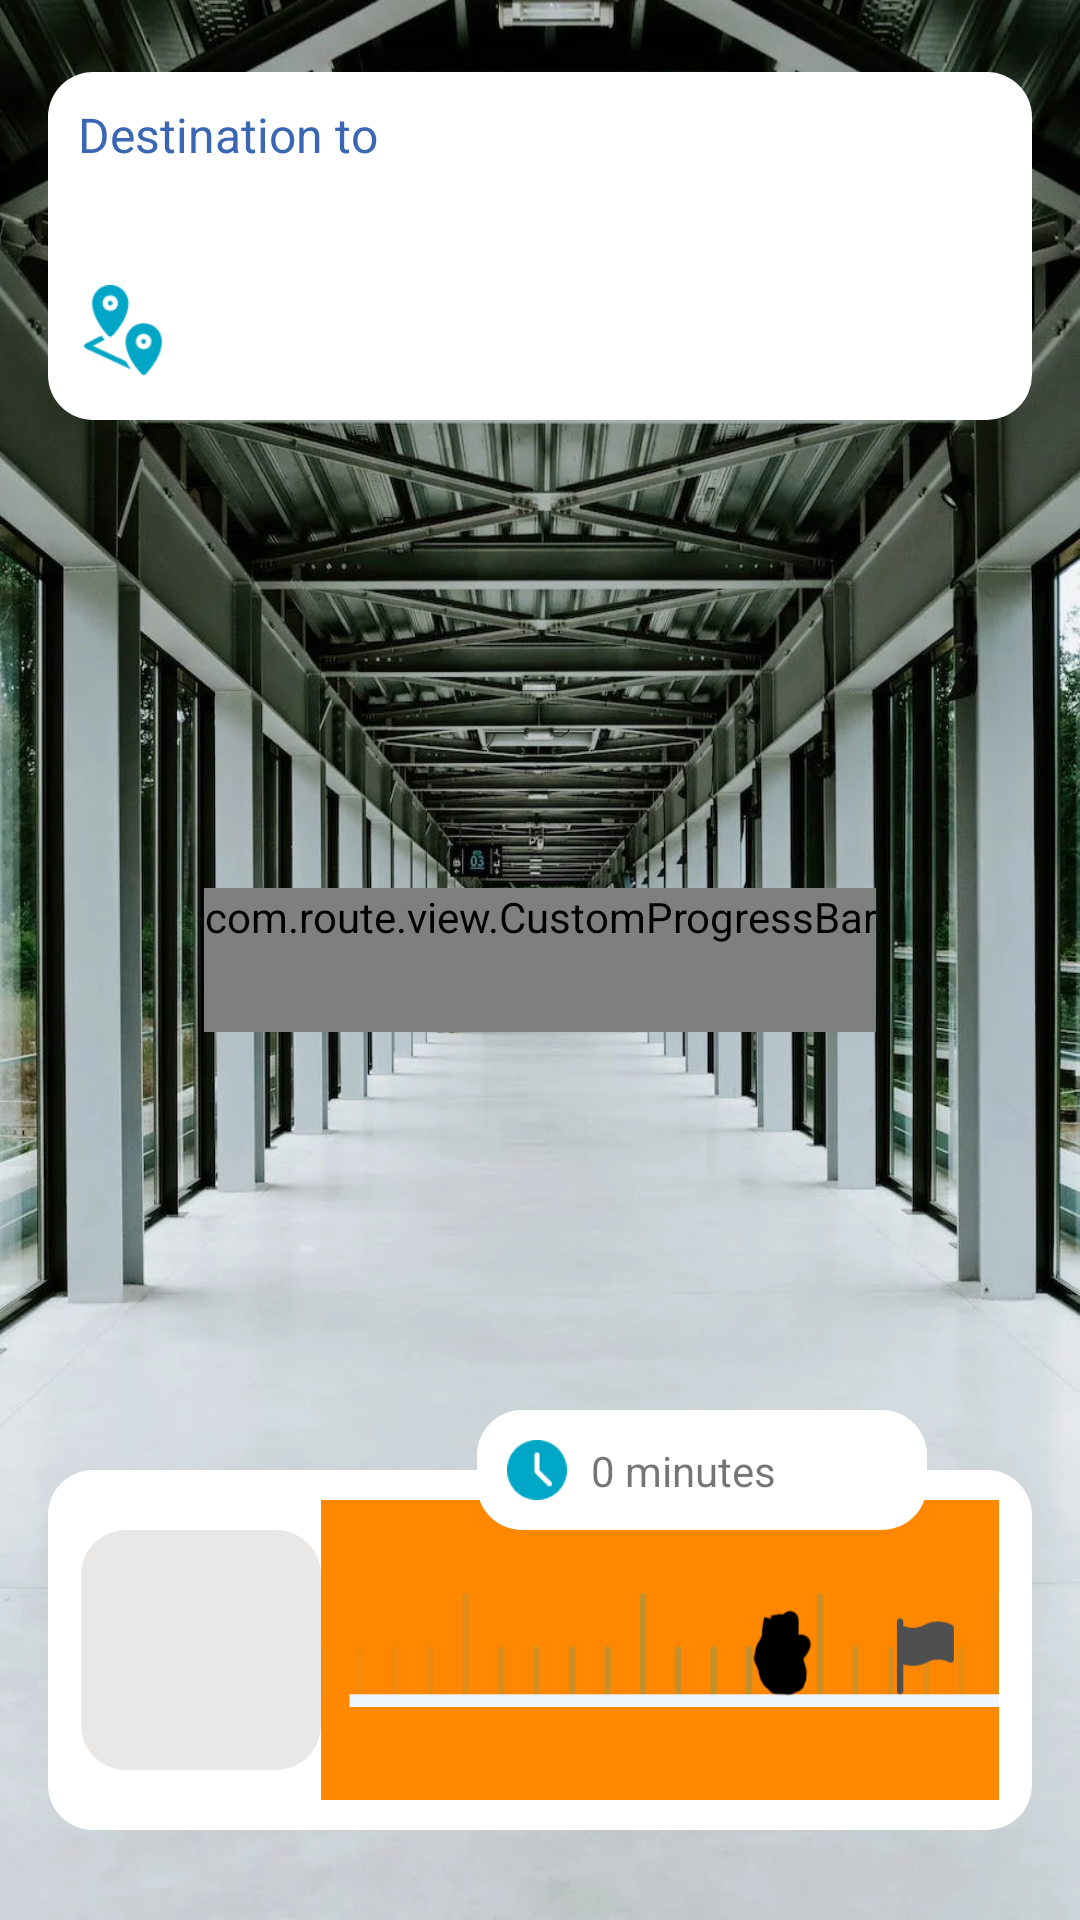

Icons on this 1080×1920 Android screen, each with its box as (x1, y1, x2, y2):
time clock: (507, 1440, 567, 1500)
